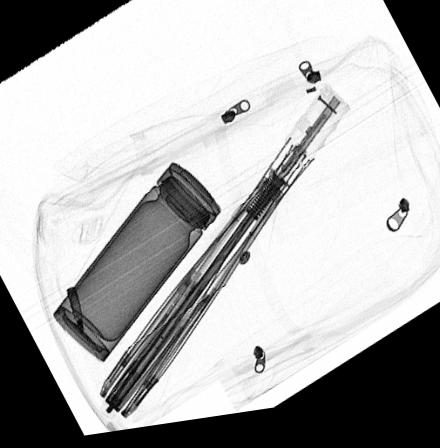Bullet: (65, 288, 85, 343)
